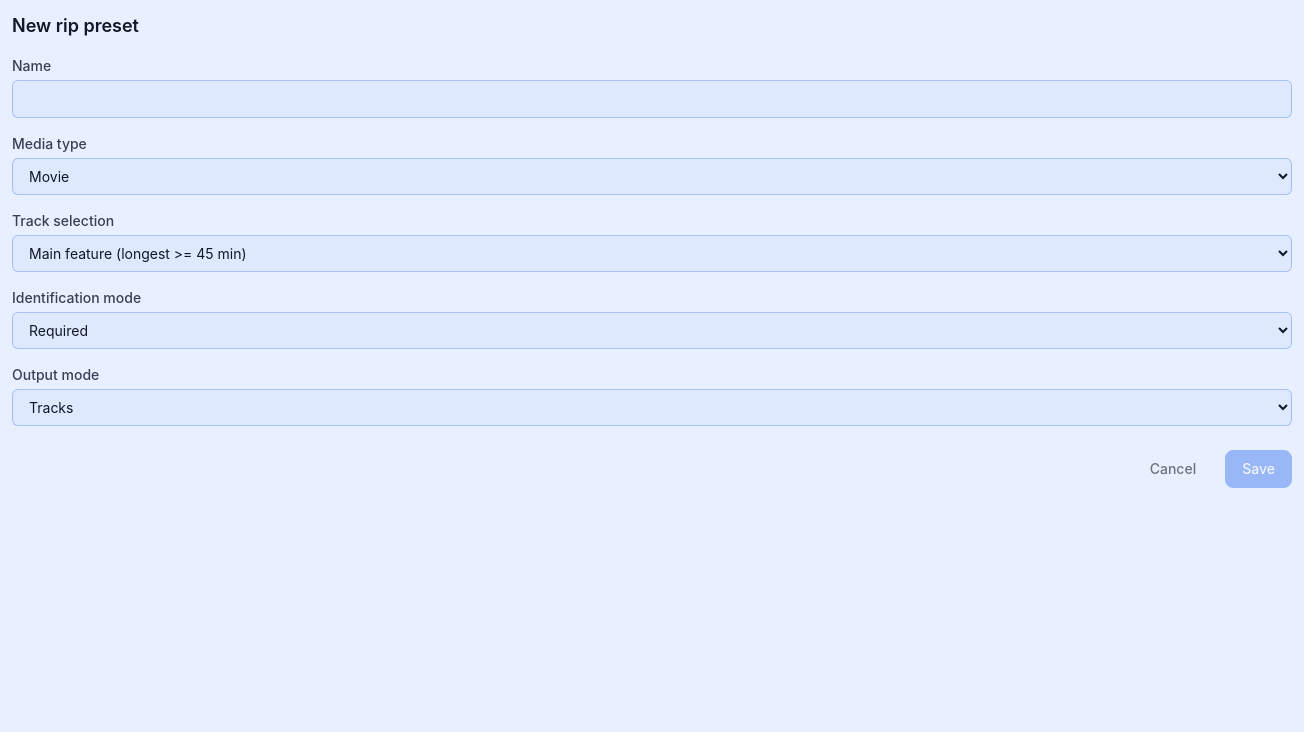
Scenario: RipPresetForm › error handling › shows the thrown error message inline
Type "X" into the field with test id "preset-name".
click(652, 99); type("X")  # box x1=12 y1=80 x2=1292 y2=118
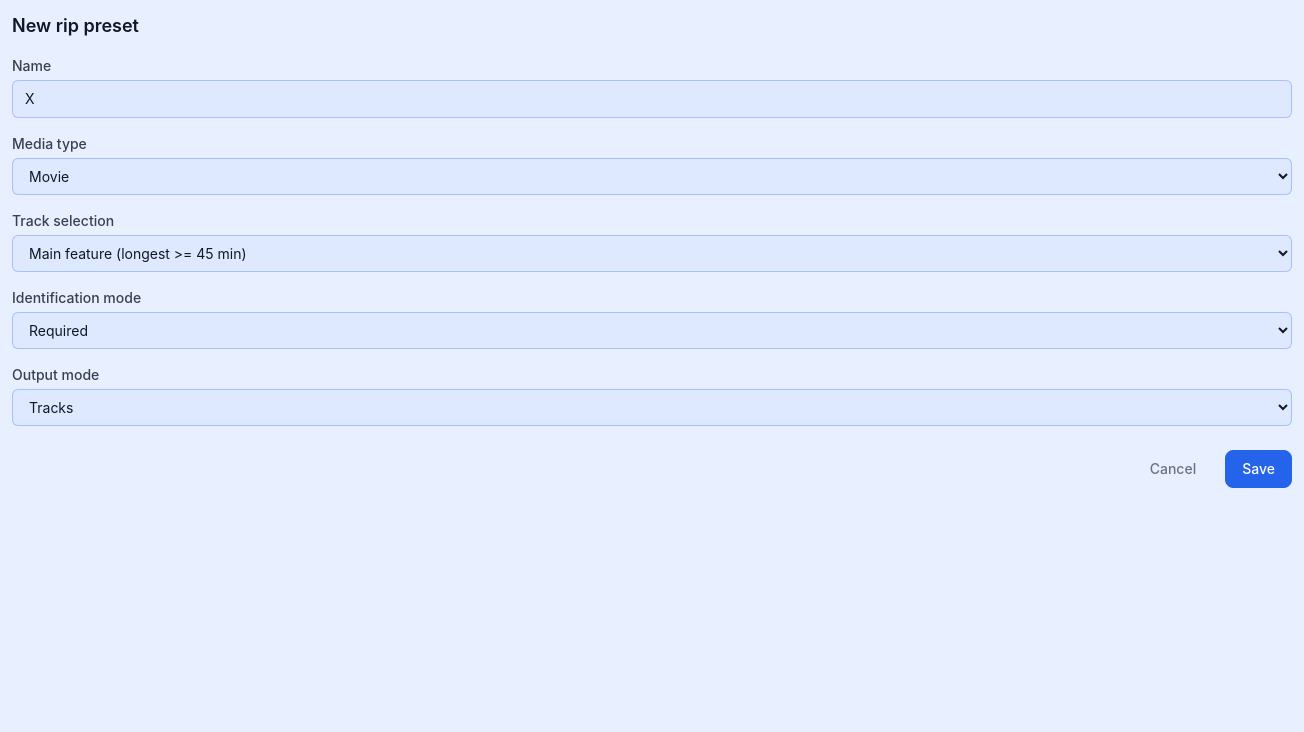
Click the button with test id "preset-submit".
click(1259, 469)  # box x1=1225 y1=450 x2=1292 y2=488
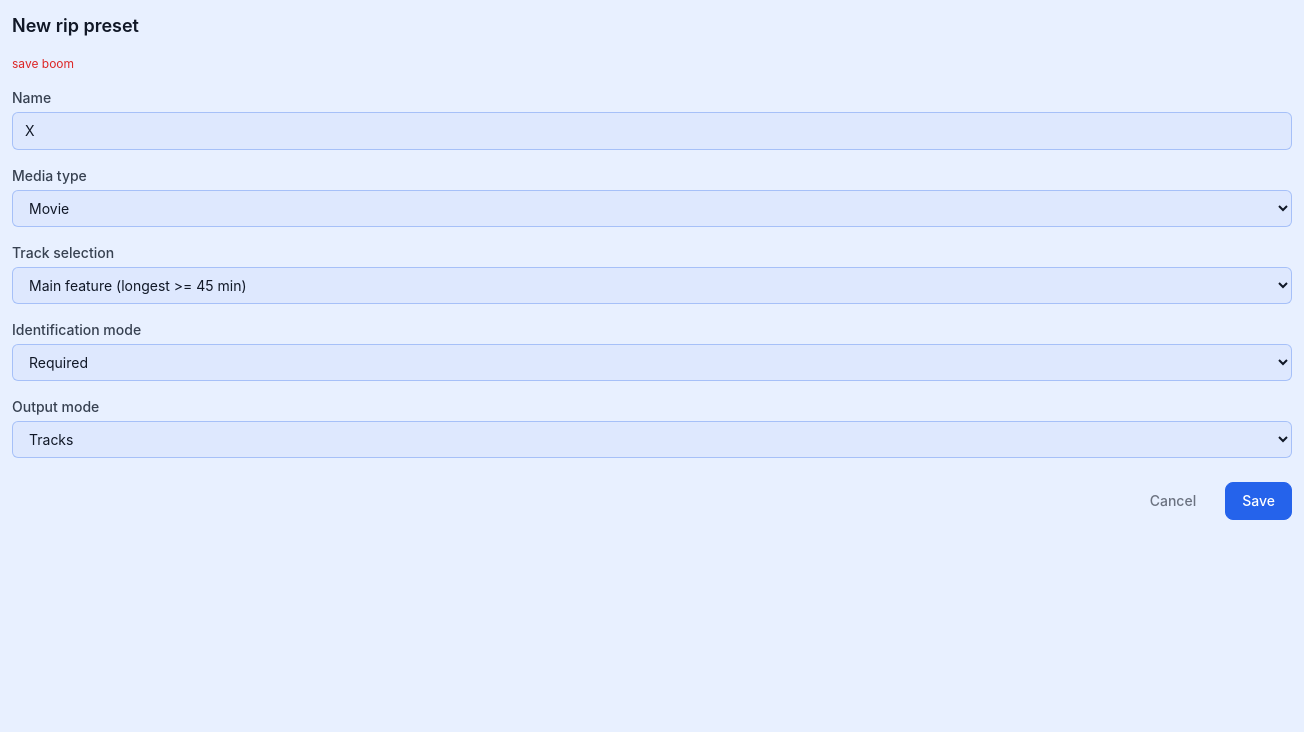
expect the text "save boom" is shown: met, box x1=12 y1=56 x2=74 y2=71
